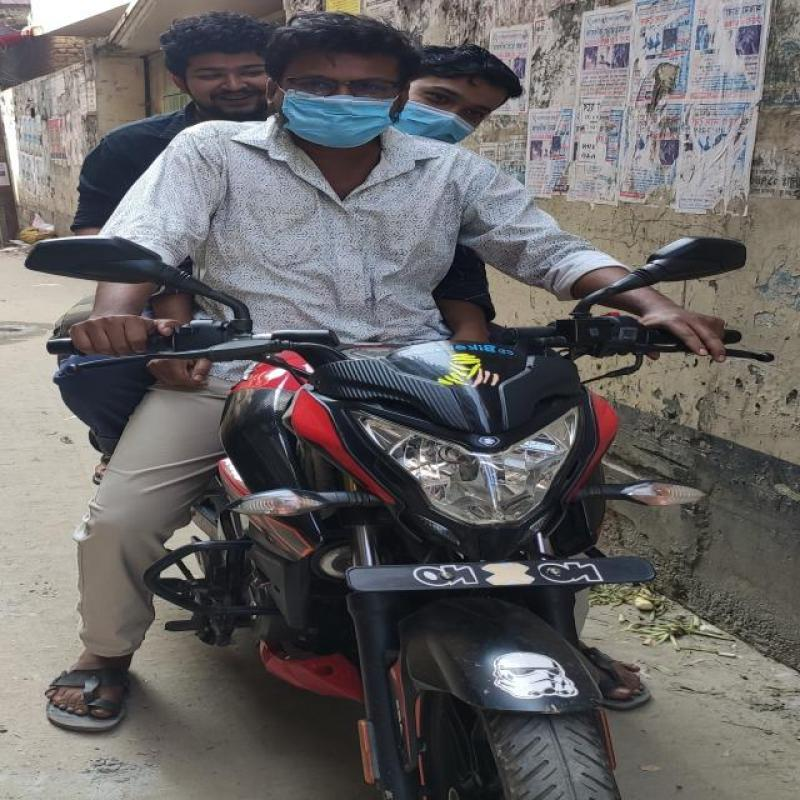nohelmet: (267, 12, 409, 148), (428, 35, 534, 157)
